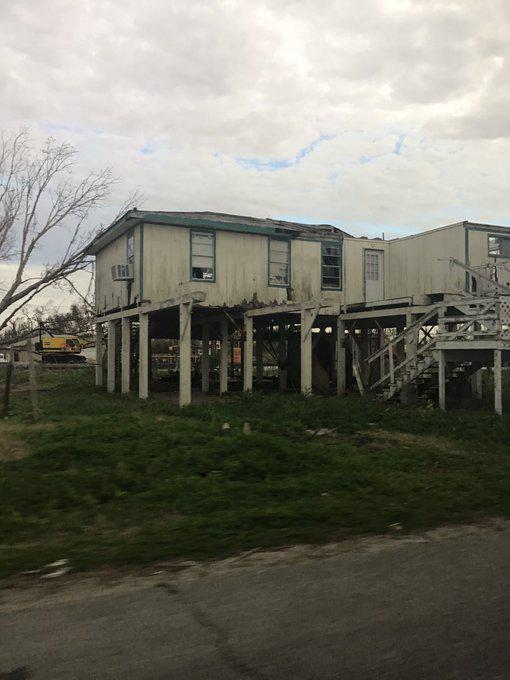major: (83, 196, 510, 408)
